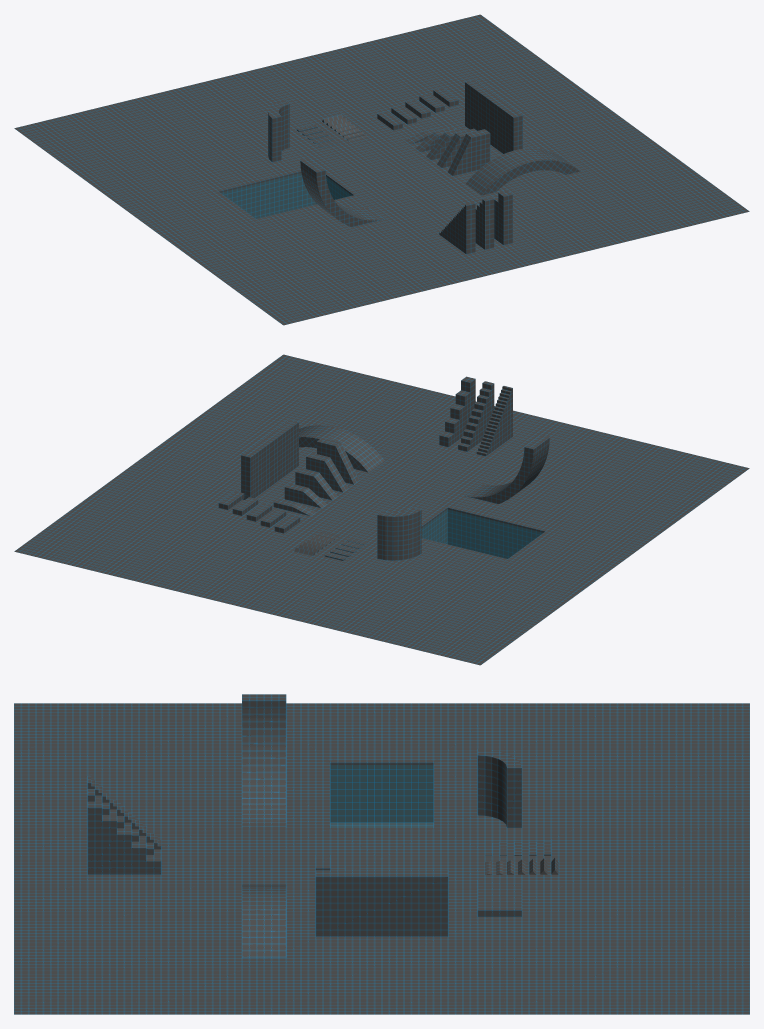
3 views of the same model, one above another, from view 1: azimuth 30°, elevation 25°; view 2: azimuth 150°, elevation 25°; view 3: azimuth 270°, elevation 25° (orthographic). The views are drawn at different scales.
Visible parts, largest first — view 1: floor, wall, ramp_2, ramp_1, shelves, slope_5, stairs_1, ramp_3, stairs_3, stairs_2, hills_1; view 2: floor, wall, ramp_3, ramp_1, ramp_2, shelves, stairs_1, stairs_3, stairs_2, slope_5, slope_4, slope_3 (+1 smaller); view 3: floor, wall, ramp_1, stairs_3, ramp_2, ramp_3, shelves, stairs_1, hills_1, stairs_2, hills_3.
Part boxes in pixels (box(x1,y1,x2,y2)): floor: box(14, 14, 749, 325); wall: box(465, 80, 522, 153); ramp_2: box(465, 148, 580, 195); ramp_1: box(300, 158, 385, 227); shelves: box(377, 88, 458, 130); slope_5: box(447, 129, 490, 176); stairs_1: box(439, 202, 475, 254); ramp_3: box(268, 100, 289, 162); stairs_3: box(494, 190, 512, 245); stairs_2: box(475, 197, 494, 249); hills_1: box(322, 114, 366, 140); floor: box(14, 354, 749, 665); wall: box(241, 420, 298, 499); ramp_3: box(377, 507, 421, 560); ramp_1: box(464, 435, 549, 503); ramp_2: box(299, 425, 384, 472); shelves: box(218, 491, 300, 533); stairs_1: box(476, 386, 512, 456); stairs_3: box(439, 376, 475, 447); stairs_2: box(458, 381, 494, 451); slope_5: box(317, 437, 359, 484); slope_4: box(306, 453, 348, 492); slope_3: box(295, 468, 337, 500); floor: box(14, 703, 749, 1014); wall: box(315, 870, 448, 936); ramp_1: box(242, 694, 286, 827); stairs_3: box(87, 801, 161, 874); ramp_2: box(242, 884, 286, 957); ramp_3: box(477, 749, 521, 827); shelves: box(477, 880, 521, 916); stairs_1: box(87, 776, 161, 849); hills_1: box(485, 858, 558, 874); stairs_2: box(87, 789, 161, 854); hills_3: box(485, 841, 551, 855).
Size of what is drawn, in the model's own units: 100 by 23 by 100.
Materials: 2 (1 with a texture image).
